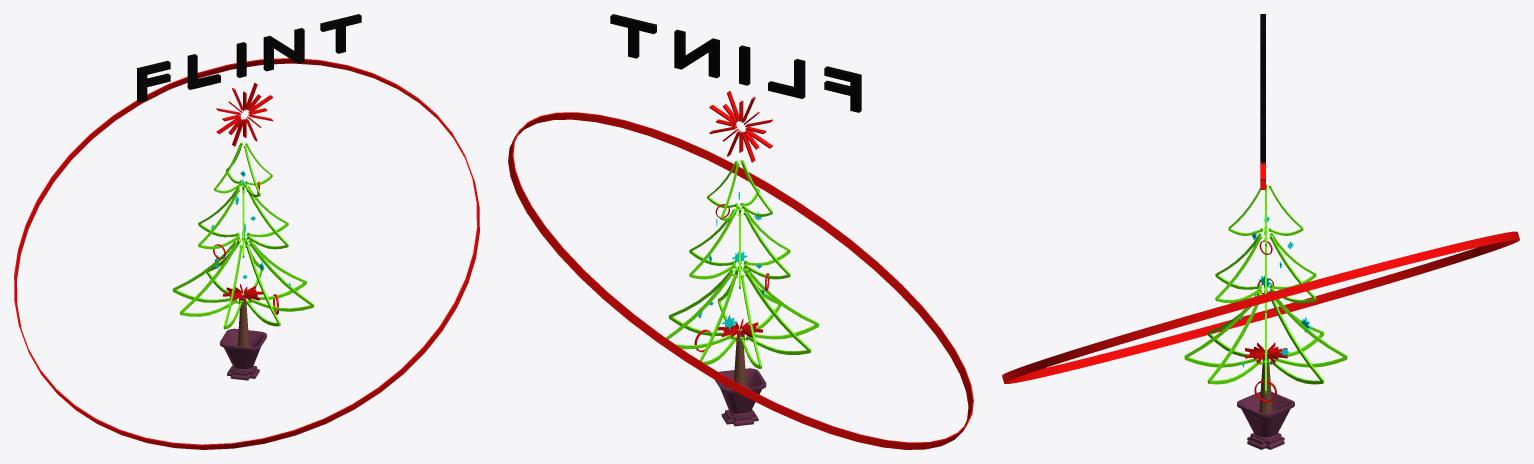
File: XMas_Flint_01.glb
The picture shows the model from 3 angles, left to right: view 1: azimuth 30°, elevation 25°; view 2: azimuth 150°, elevation 25°; view 3: azimuth 270°, elevation 25°; orthographic projection. The views are drawn at different scales.
Parts seen in each view (by area): view 1: FlinTree; view 2: FlinTree; view 3: FlinTree.
Boxes of the visible parts, box(x1,y1,x2,y2) form: FlinTree: box(14, 14, 479, 449); FlinTree: box(508, 14, 973, 449); FlinTree: box(1002, 14, 1519, 449).
Size of the model in its own units: 3.94 by 3.31 by 4.2.
